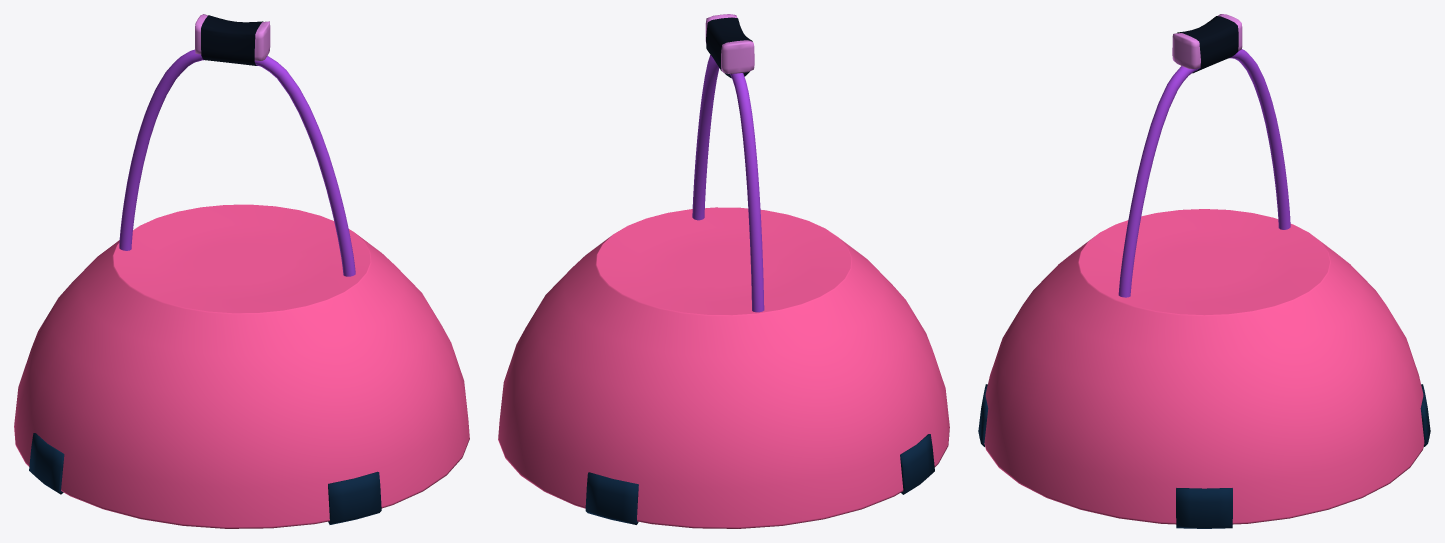
The model's file is brain_coral.dae.
The picture shows the model from 3 angles, left to right: view 1: azimuth 30°, elevation 25°; view 2: azimuth 150°, elevation 25°; view 3: azimuth 270°, elevation 25°; orthographic projection. The views are drawn at different scales.
Parts seen in each view (by area): view 1: Bowl, Rope, Tape, Velcro_Patch.001, Velcro_Patch.003, Float; view 2: Bowl, Rope, Velcro_Patch.002, Velcro_Patch.003, Float, Tape; view 3: Bowl, Rope, Velcro_Patch, Tape, Float.
Boxes of the visible parts, x1,y1,x2,y2 form: Bowl: [14, 204, 469, 528]; Rope: [119, 49, 355, 276]; Tape: [201, 15, 263, 65]; Velcro_Patch.001: [328, 471, 381, 524]; Velcro_Patch.003: [29, 433, 64, 494]; Float: [195, 14, 270, 60]; Bowl: [498, 207, 949, 528]; Rope: [692, 55, 764, 312]; Velcro_Patch.002: [585, 472, 638, 524]; Velcro_Patch.003: [900, 434, 934, 494]; Float: [705, 14, 754, 73]; Tape: [706, 17, 752, 78]; Bowl: [984, 209, 1424, 524]; Rope: [1118, 49, 1290, 297]; Velcro_Patch: [1176, 488, 1232, 528]; Tape: [1177, 16, 1238, 73]; Float: [1172, 14, 1242, 69].
Size of the model in its own units: 1.19 by 1.19 by 1.17.
